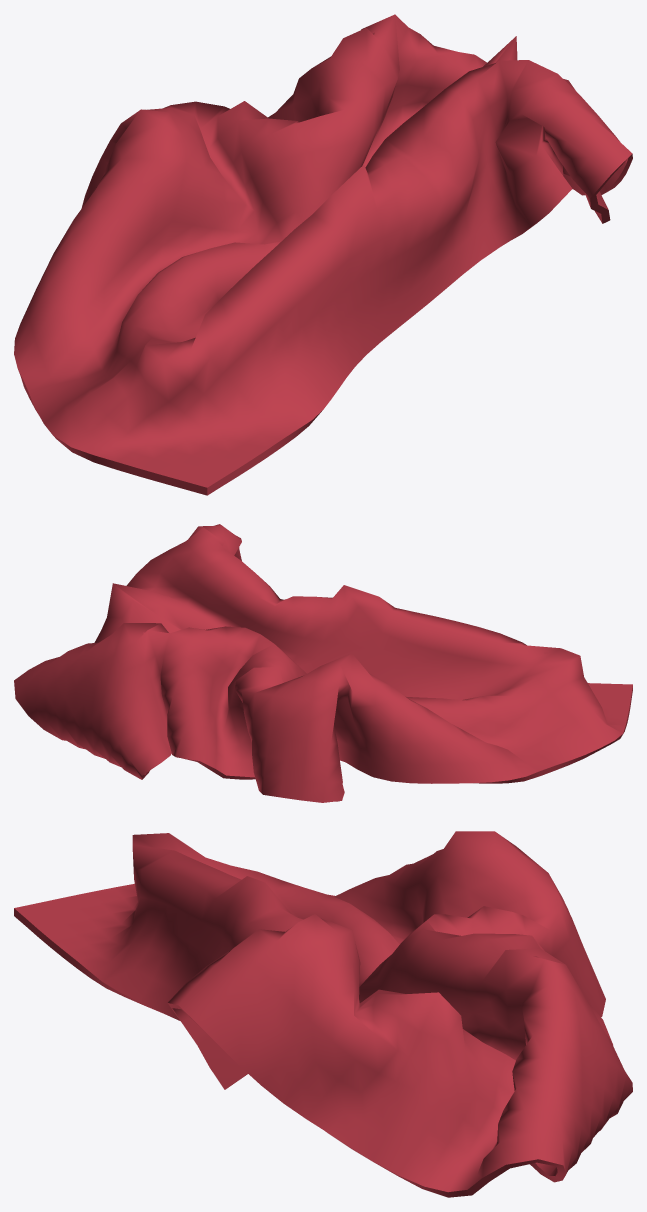
File: HamLP.fbx
3 renders of one model, top to bottom at view 1: azimuth 30°, elevation 25°; view 2: azimuth 150°, elevation 25°; view 3: azimuth 270°, elevation 25°, orthographic. The views are drawn at different scales.
Visible parts, largest first — view 1: pPlane1; view 2: pPlane1; view 3: pPlane1.
Part boxes in pixels (x1,y1,x2,y2): pPlane1: [14, 14, 632, 495]; pPlane1: [14, 524, 632, 802]; pPlane1: [14, 831, 632, 1197].
Size of the model in its own units: 8.97 by 2.88 by 7.08.
